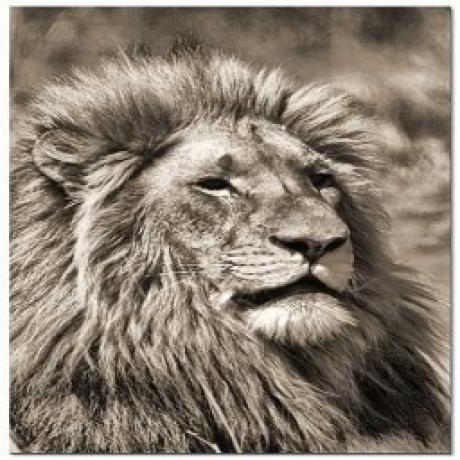Lion: (10, 55, 458, 456)
